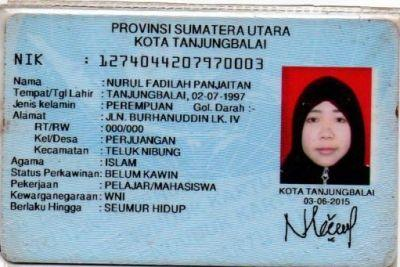ID-card: (3, 14, 395, 263)
